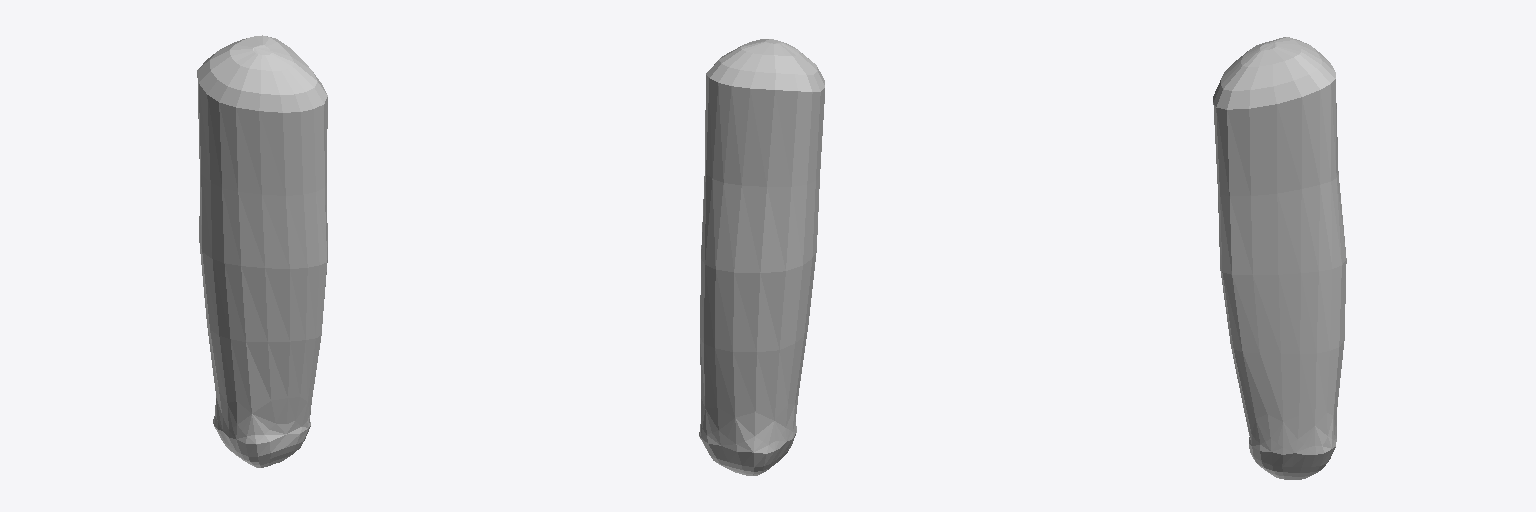
File: 10_legDW_R.obj
3 renders of one model, left to right at view 1: azimuth 30°, elevation 25°; view 2: azimuth 150°, elevation 25°; view 3: azimuth 270°, elevation 25°, orthographic.
Visible parts, largest first — view 1: legDW_R; view 2: legDW_R; view 3: legDW_R.
Boxes of the visible parts, x1=… form: legDW_R: x1=197, y1=35, x2=327, y2=467; legDW_R: x1=699, y1=39, x2=824, y2=475; legDW_R: x1=1213, y1=37, x2=1346, y2=479.
Size of the model in its own units: 0.6693 by 2.65 by 0.7572.